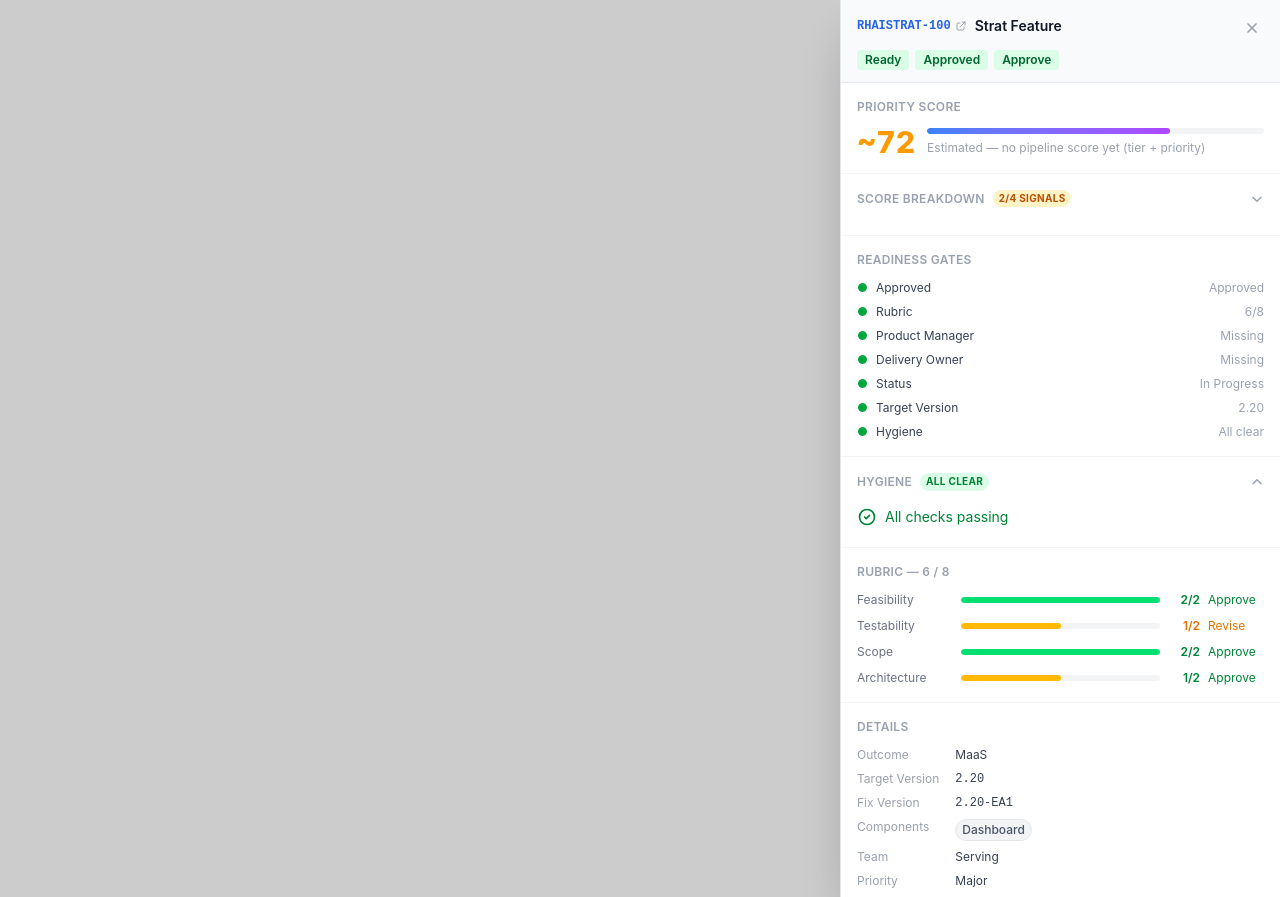
Test: FeatureReadinessDrawer › score breakdown section › shows completeness penalty info when expanded
The width and height of the screenshot is (1280, 897).
Click the button "Score Breakdown 2/4 signals" at (1060, 199), box [857,190,1264,207]
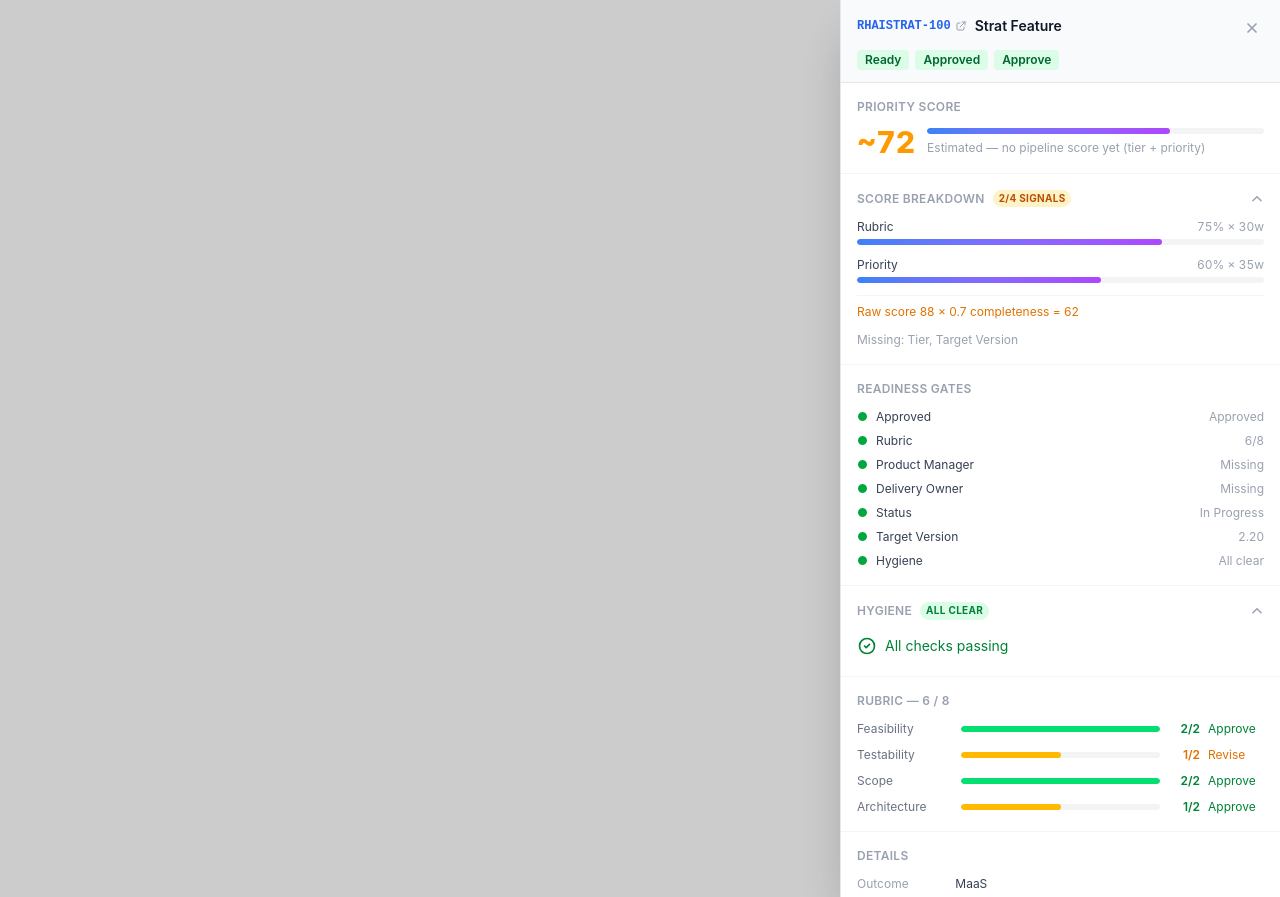
Expected: the text "completeness" is shown, [857,304,1079,319]
Expected: the text "0.7" is shown, [857,304,1079,319]
